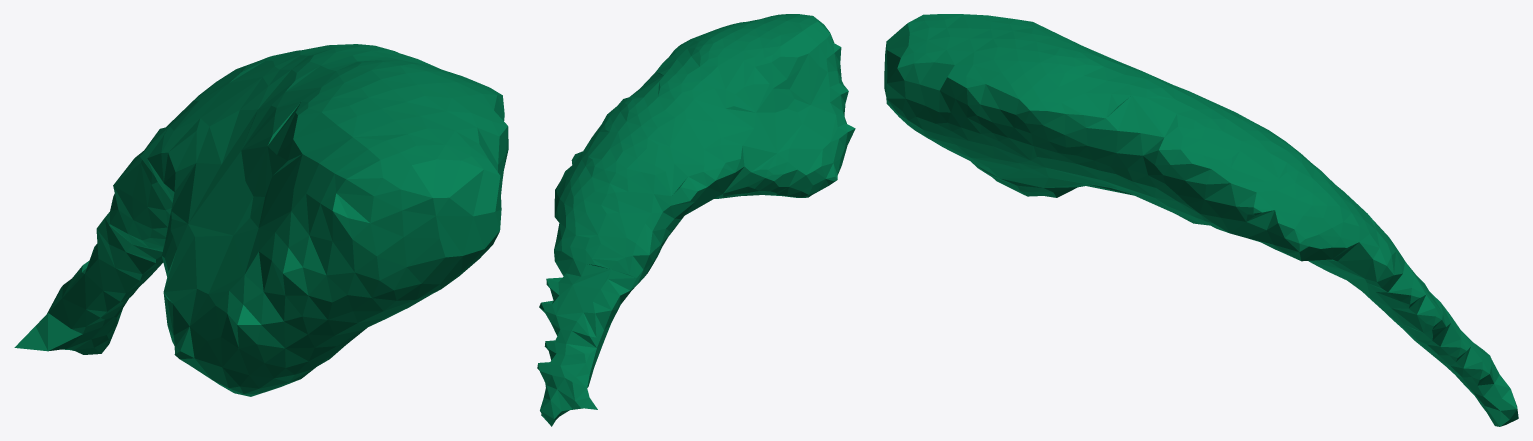
The model's file is Model_10236_LH__Ventral_nucleus_of_the_endopiriform_claustrum_(VEn).obj.
3 renders of one model, left to right at view 1: azimuth 30°, elevation 25°; view 2: azimuth 150°, elevation 25°; view 3: azimuth 270°, elevation 25°, orthographic. The views are drawn at different scales.
Bounding box in the file's own units: 1.31 × 1.74 × 2.71.
